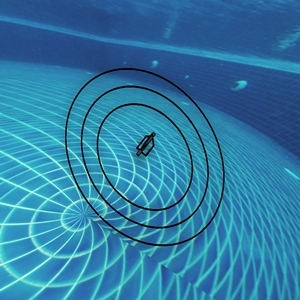circle: (62, 64, 233, 248)
submarine: (135, 131, 156, 155)
